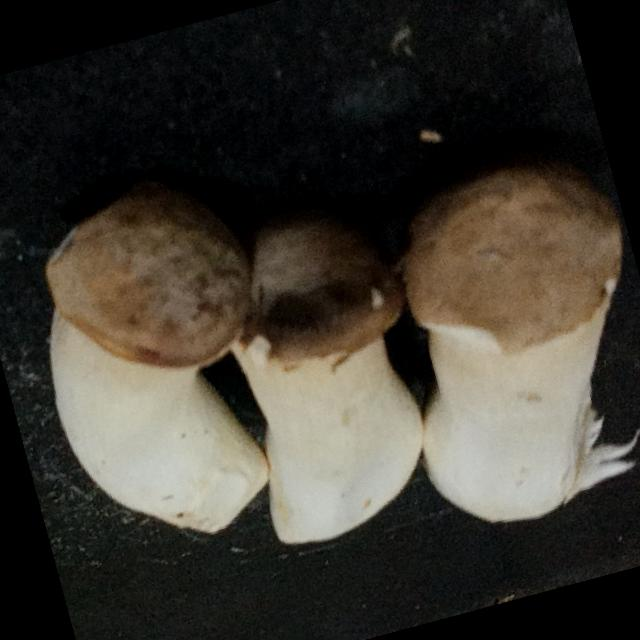Pleurotus eryngii: (3, 163, 318, 567), (356, 138, 640, 541), (202, 205, 463, 552)
